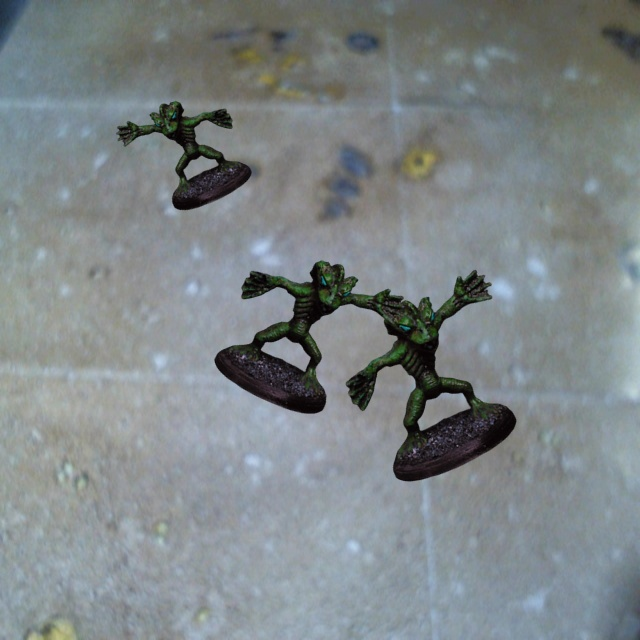pieza_juego: (346, 270, 516, 481), (214, 260, 404, 413), (116, 101, 251, 209)
